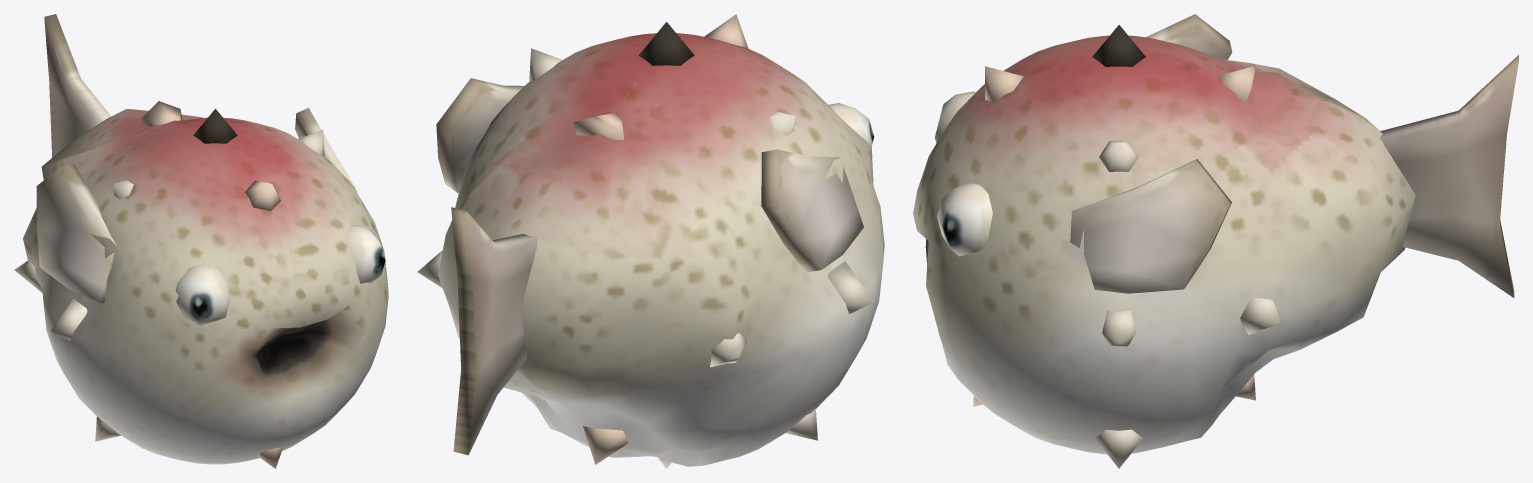
File: puffer.dae
The picture shows the model from 3 angles, left to right: view 1: azimuth 30°, elevation 25°; view 2: azimuth 150°, elevation 25°; view 3: azimuth 270°, elevation 25°; orthographic projection. The views are drawn at different scales.
Visible parts, largest first — view 1: Sphere_002; view 2: Sphere_002; view 3: Sphere_002.
Boxes of the visible parts, bbox=[...] form: Sphere_002: bbox=[14, 14, 388, 468]; Sphere_002: bbox=[417, 14, 884, 468]; Sphere_002: bbox=[913, 14, 1518, 468].
Bounding box in the file's own units: 2.2 × 2.88 × 2.26.
Materials: 1 (1 with a texture image).
